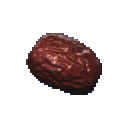gd: (5, 12, 123, 128)
